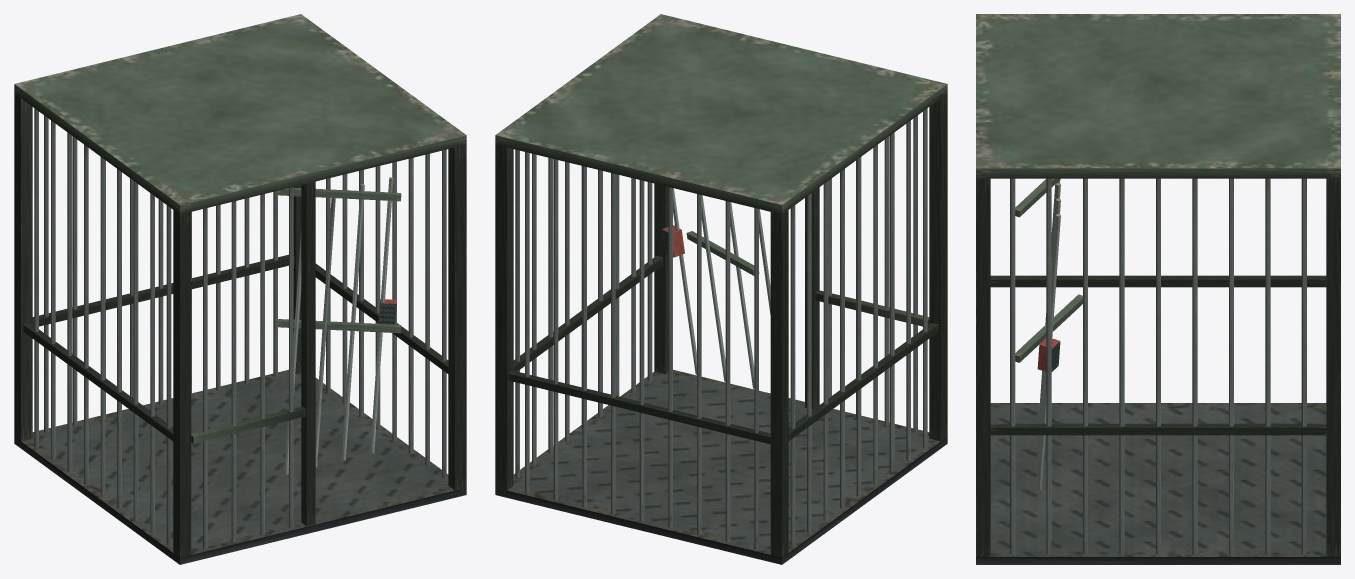
The model's file is holding_cell.glb.
3 views of the same model, side by side, from view 1: azimuth 30°, elevation 25°; view 2: azimuth 150°, elevation 25°; view 3: azimuth 270°, elevation 25° (orthographic). The views are drawn at different scales.
Parts seen in each view (by area): view 1: HoldingCell; view 2: HoldingCell; view 3: HoldingCell.
Part boxes in pixels (x1,y1,x2,y2): HoldingCell: [14, 14, 466, 564]; HoldingCell: [495, 14, 947, 564]; HoldingCell: [976, 14, 1340, 564].
Bounding box in the file's own units: 2.5 × 3 × 2.5.
1 material, 1 textured.
